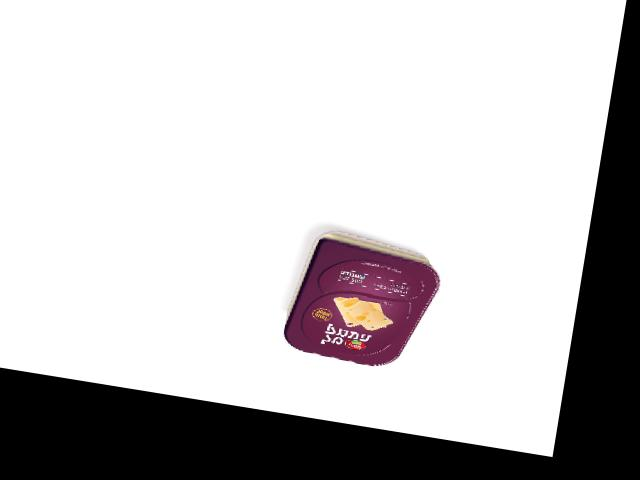cheese: (280, 226, 445, 375)
